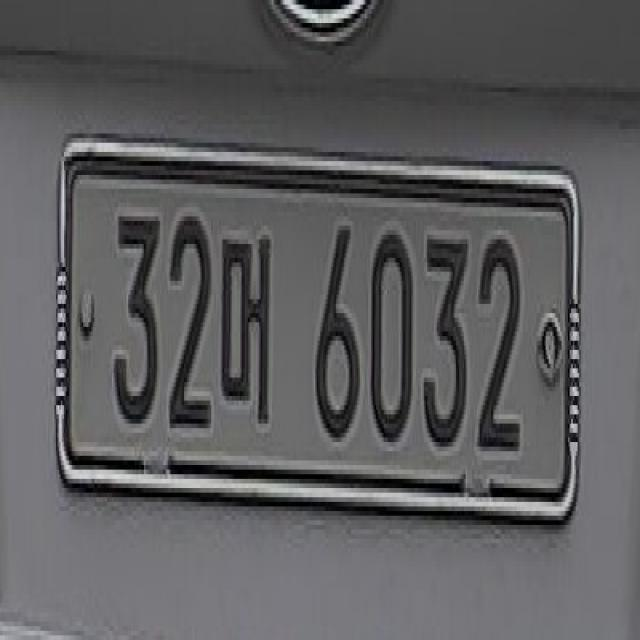0: (366, 221, 414, 447)
2: (475, 230, 522, 460), (168, 212, 214, 446)
3: (110, 198, 165, 433), (421, 221, 470, 460)
6: (312, 216, 362, 446)
license_plate: (64, 170, 573, 516)
meo: (218, 230, 274, 424)
